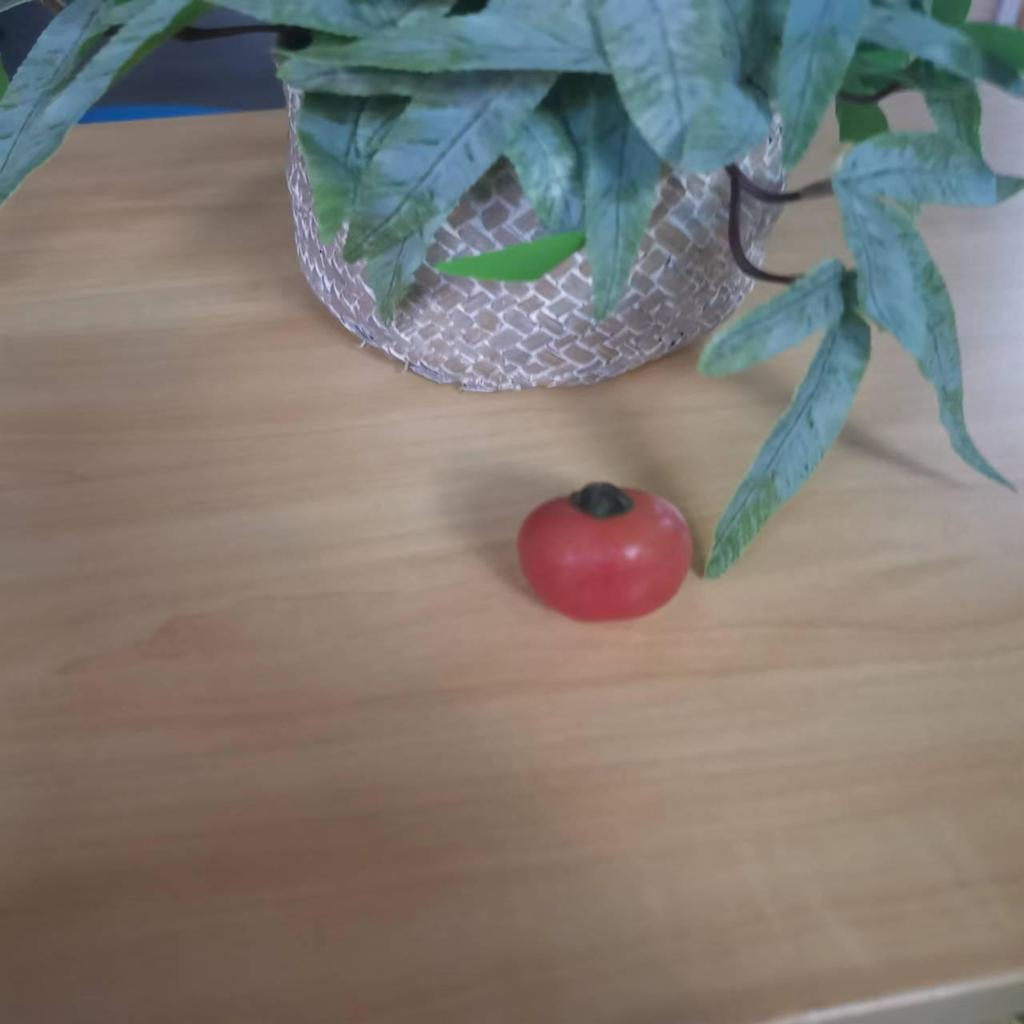tomato: (509, 480, 696, 623)
